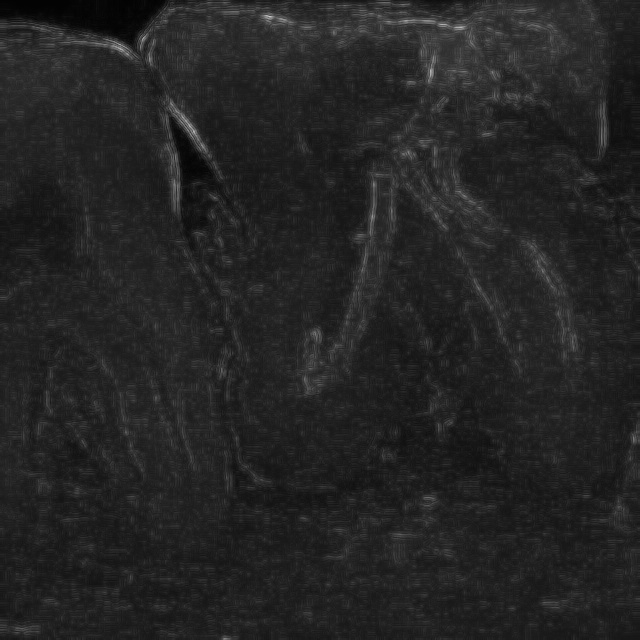Class 2- incomplete endodontic treatment: (116, 6, 640, 508)
